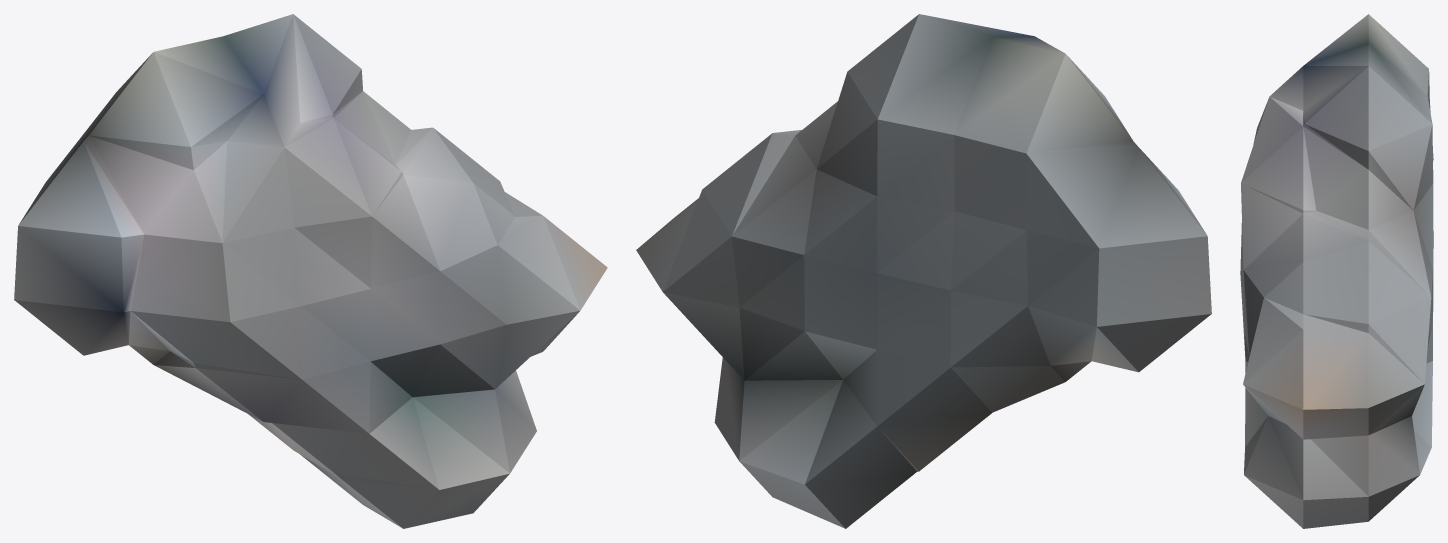
Rendered from 000007_car_mercedes_car wallpapers_12288_16.glb.
3 views of the same model, side by side, from view 1: azimuth 30°, elevation 25°; view 2: azimuth 150°, elevation 25°; view 3: azimuth 270°, elevation 25° (orthographic). The views are drawn at different scales.
Parts seen in each view (by area): view 1: world; view 2: world; view 3: world.
Boxes of the visible parts, x1,y1,x2,y2 form: world: [14, 14, 607, 528]; world: [636, 14, 1211, 528]; world: [1240, 14, 1433, 528].
Bounding box in the file's own units: 0.9187 × 0.8061 × 0.3433.
